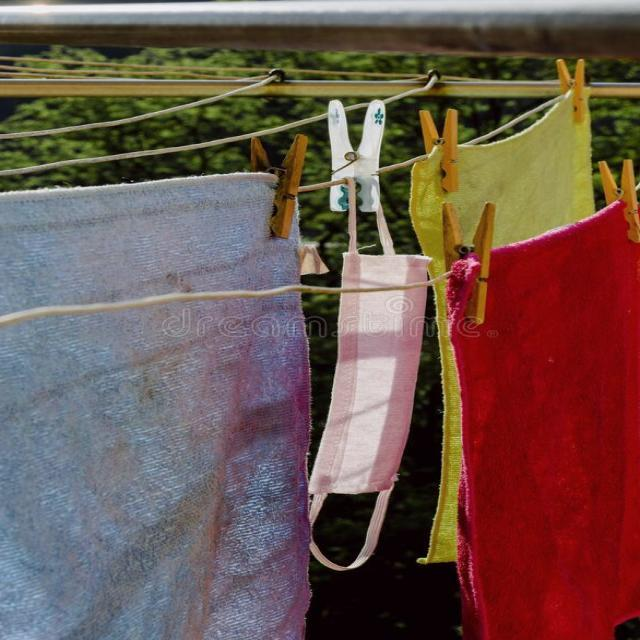clothes: (244, 352, 640, 638)
